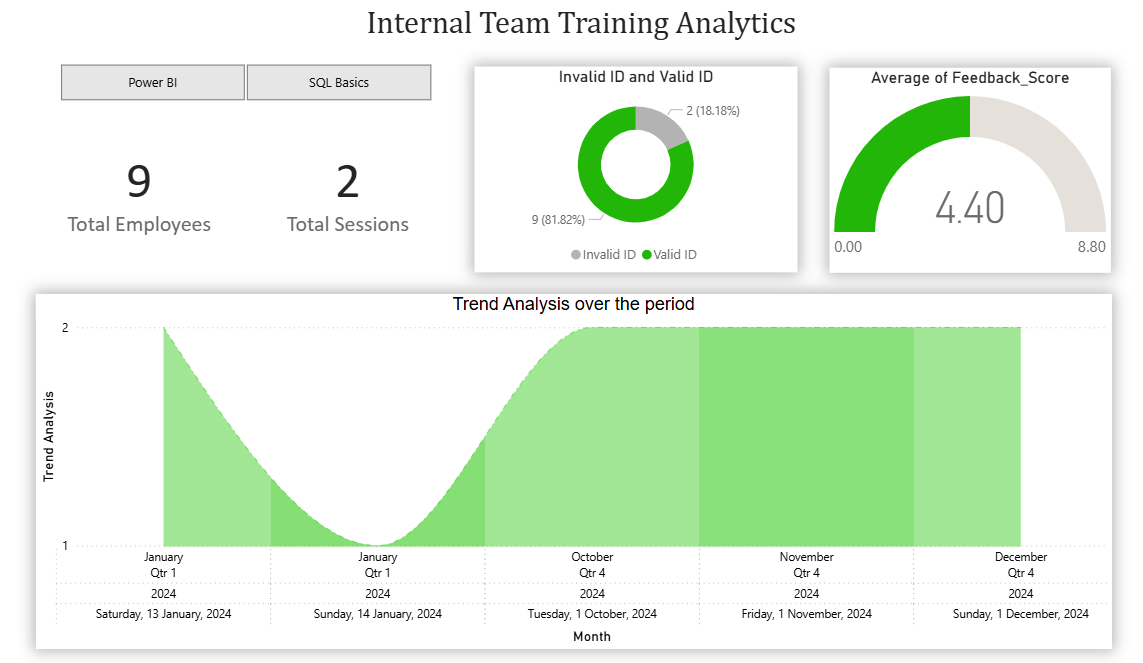

The page's visual inventory and layout, read from the dashboard file:
{"tool":"powerbi","page":{"name":"Overview ","canvas":[1210,720],"ordinal":0},"visuals":[{"type":"card","fields":{"Values":["Bronze_Messy.Total Employees"]},"box":[63.6,122.3,189.5,172.4],"z":0},{"type":"card","fields":{"Values":["Bronze_Messy.Total Sessions"]},"box":[280,122.3,189.5,172.4],"z":1000},{"type":"lineChart","title":"Trend Analysis over the period","fields":{"Category":["Training.Date_Clean","Training.Date.Variation.Date Hierarchy.Year","Training.Date.Variation.Date Hierarchy.Quarter","Training.Date.Variation.Date Hierarchy.Month"],"Y":["Count(Training.Employee_ID_Clean)"]},"box":[50.1,316.7,1116.4,368.1],"z":2000},{"type":"gauge","fields":{"Y":["Avg(Training.Feedback_Score)"]},"box":[874.3,81.9,292.3,212.8],"z":3000},{"type":"textbox","box":[39.1,9.8,1127.5,51.4],"z":4000},{"type":"donutChart","fields":{"Y":["Count(Training.Employee_ID_Flag)","Count(Training.Employee_ID)"]},"box":[506.3,80.7,335.1,214],"z":5000},{"type":"slicer","fields":{"Values":["Training.Session"]},"box":[50.1,70.9,434.1,51.4],"z":6000}]}

Visuals, with their boxes in screenshot pixels (x1, y1, x2, y2), scaled from the page's 1210x720 canvas onto the 1143x663 screenshot:
card - Bronze_Messy.Total Employees: BBox(60, 113, 239, 271)
card - Bronze_Messy.Total Sessions: BBox(264, 113, 444, 271)
"Trend Analysis over the period" lineChart: BBox(47, 292, 1102, 631)
gauge - Avg(Training.Feedback_Score): BBox(826, 75, 1102, 271)
textbox: BBox(37, 9, 1102, 56)
donutChart - Count(Training.Employee_ID_Flag) x Count(Training.Employee_ID): BBox(478, 74, 795, 271)
slicer - Training.Session: BBox(47, 65, 457, 113)
